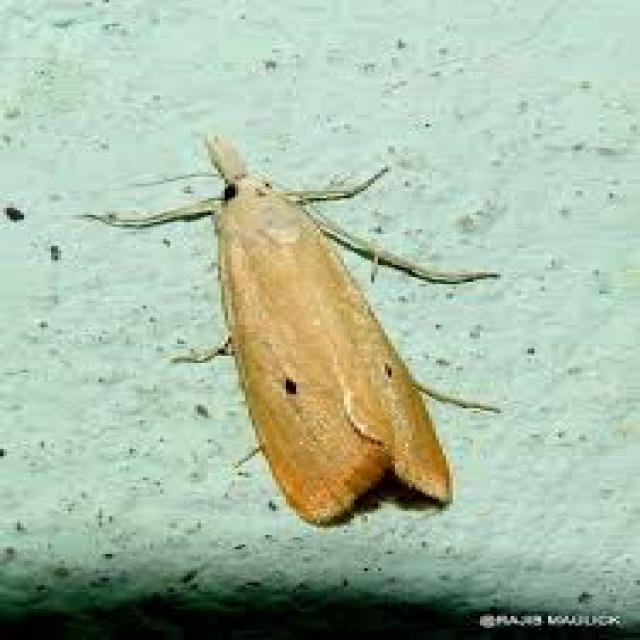yellow-stem-borer: (94, 101, 494, 570)
